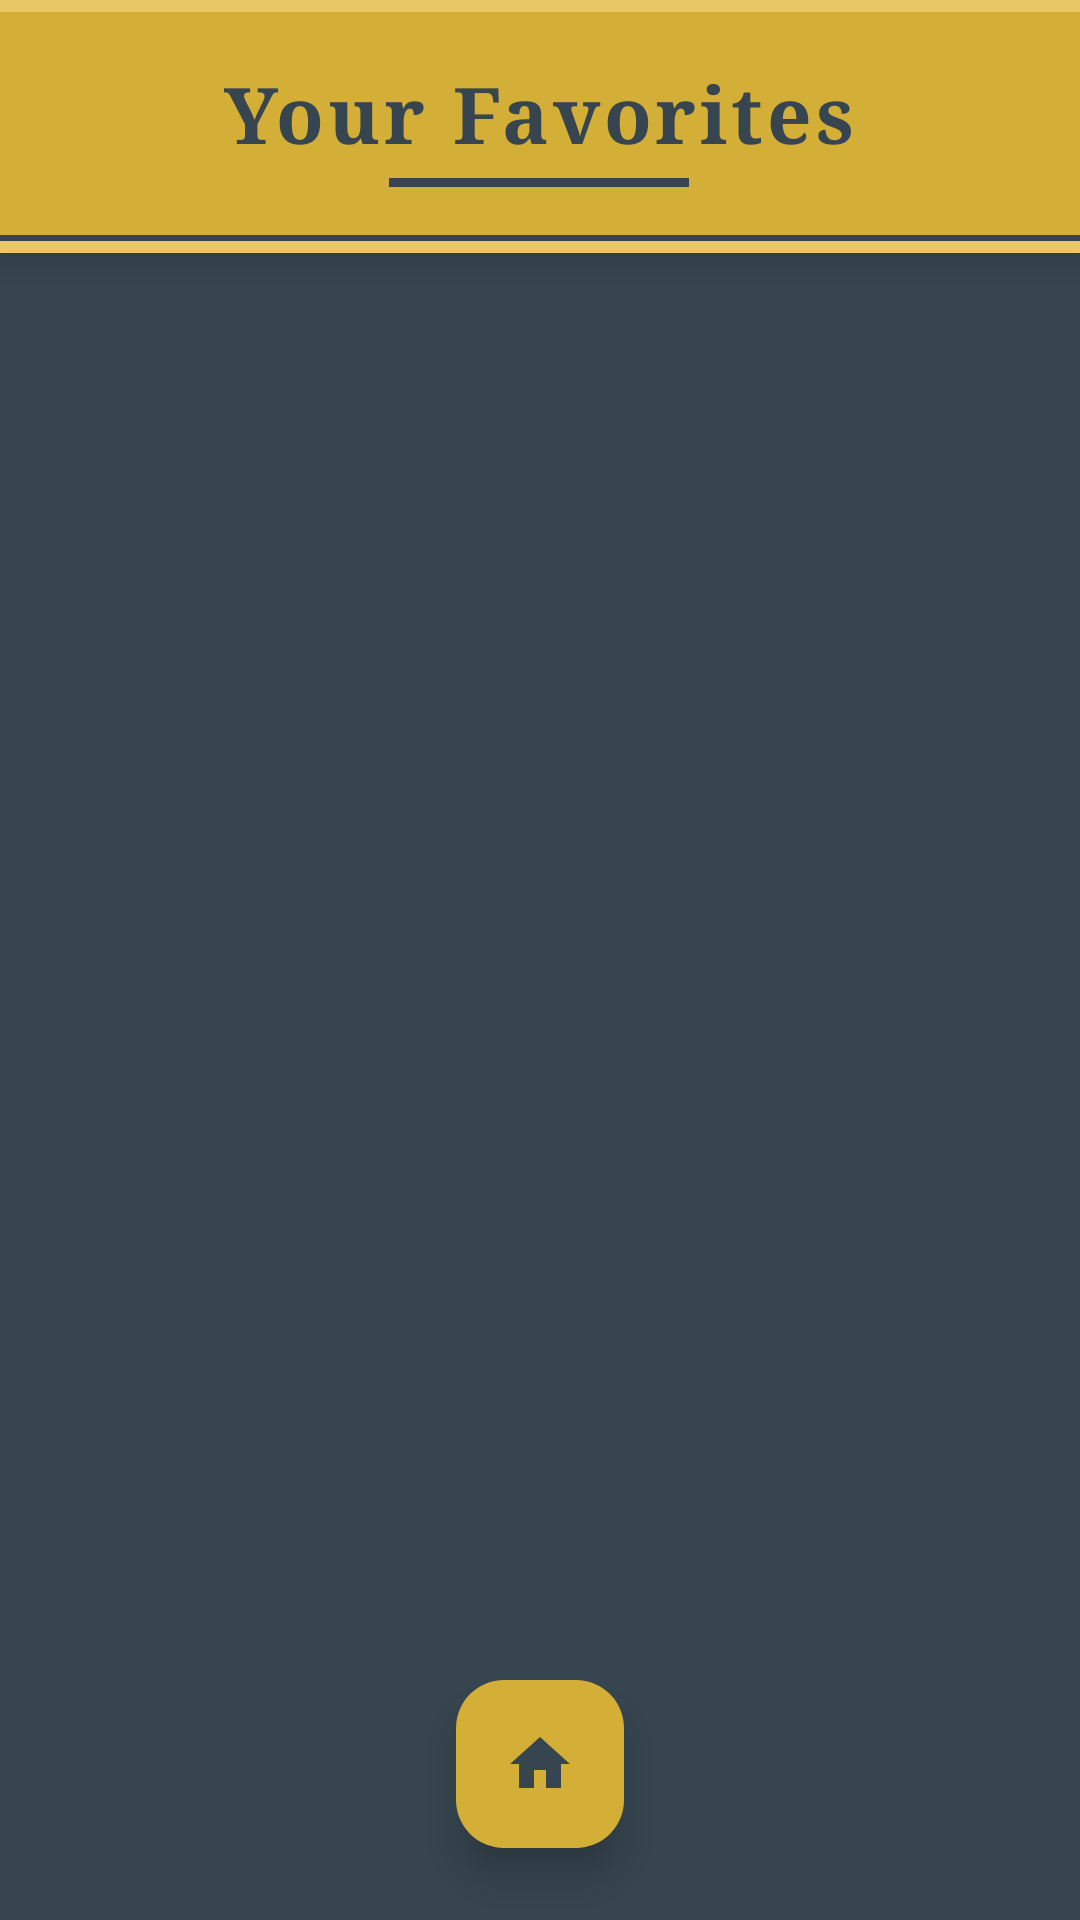

Icon click points for this 1080w x 1920h phone screenshot, format point (x, y):
Go to Home: point (540, 1764)
